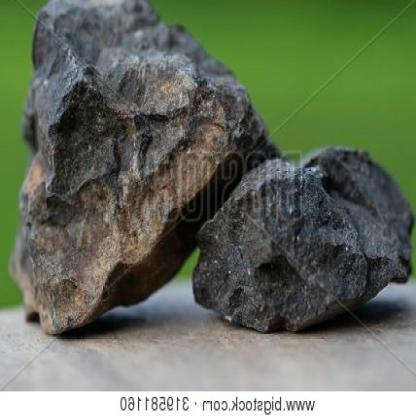Igneous_Basalt: (6, 0, 262, 333), (192, 125, 415, 338)
